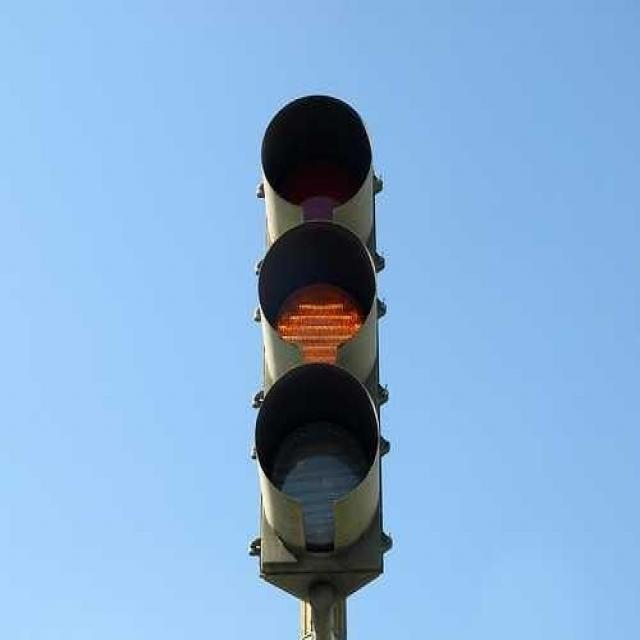yellow_light: (251, 94, 392, 571)
